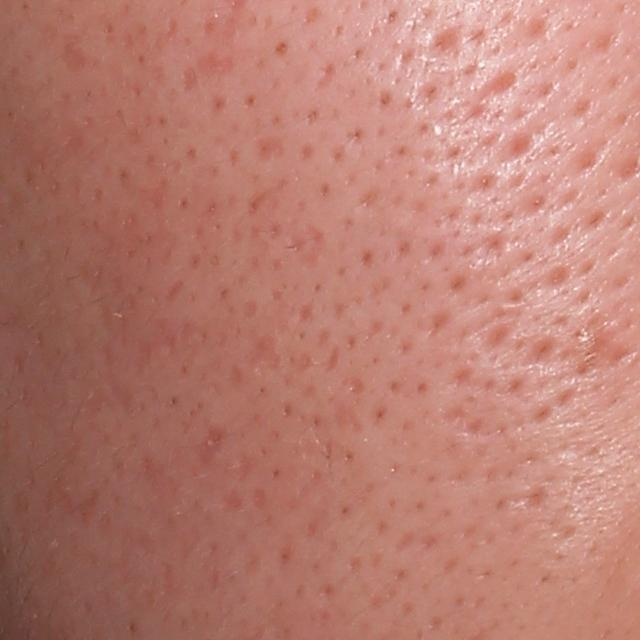atrophic_scar: (238, 325, 285, 385), (462, 69, 528, 111), (421, 23, 468, 71), (493, 481, 546, 521), (196, 42, 244, 85), (194, 419, 232, 469), (523, 332, 558, 371)
